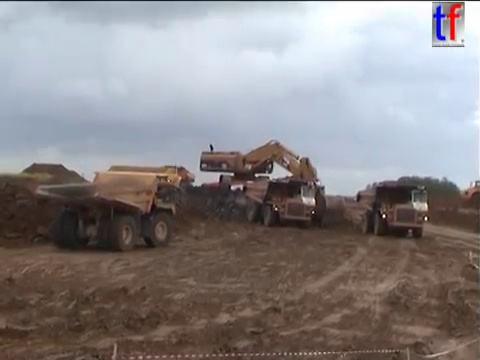excavator: (197, 138, 346, 229), (198, 174, 288, 209)
truck: (33, 163, 182, 252), (355, 181, 430, 239), (241, 175, 320, 228), (155, 163, 196, 195), (460, 179, 480, 205)
